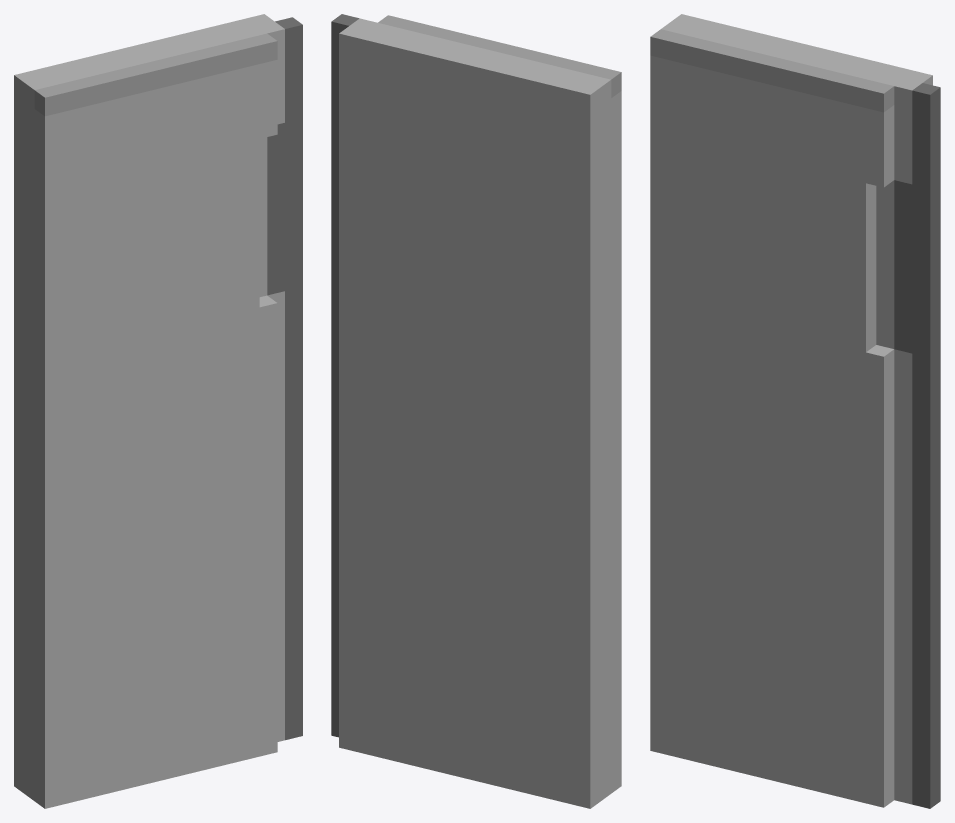
The model's file is Elevator Door Left.obj.
3 renders of one model, left to right at view 1: azimuth 30°, elevation 25°; view 2: azimuth 150°, elevation 25°; view 3: azimuth 330°, elevation 25°, orthographic.
Size of the model in its own units: 15 by 38 by 3.
Materials: 1 (1 with a texture image).
